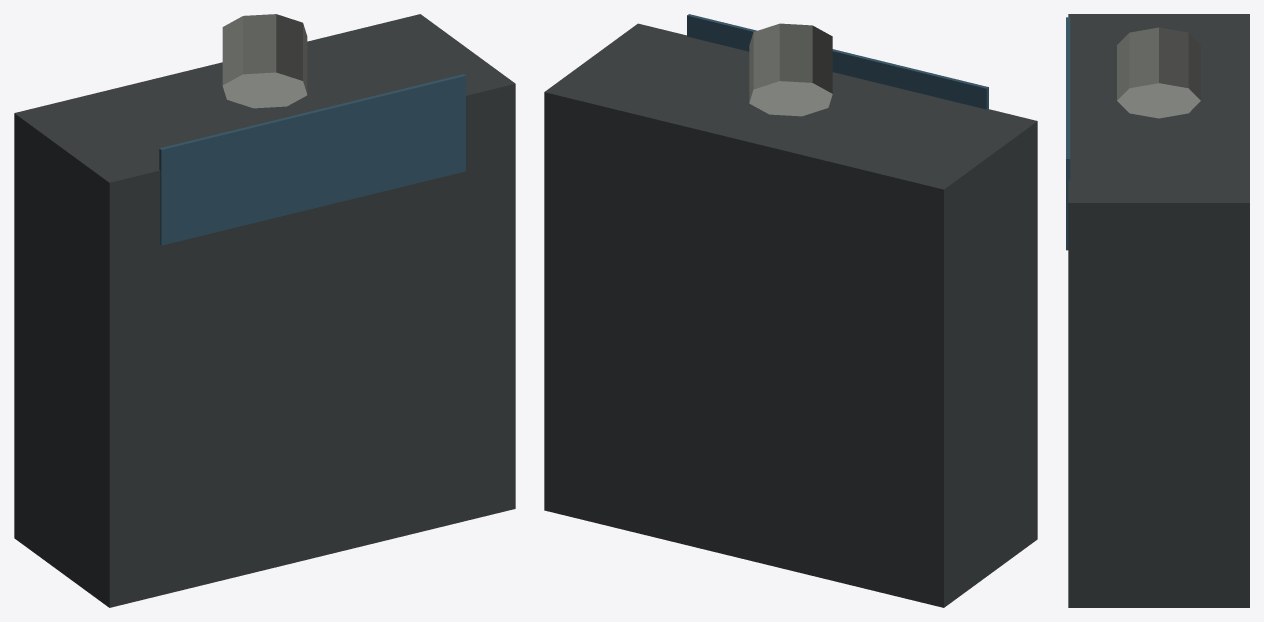
File: ticket.glb
3 views of the same model, side by side, from view 1: azimuth 30°, elevation 25°; view 2: azimuth 150°, elevation 25°; view 3: azimuth 270°, elevation 25° (orthographic). The views are drawn at different scales.
Parts seen in each view (by area): view 1: body; view 2: body; view 3: body.
Part boxes in pixels (x1=…): body: x1=14, y1=14, x2=515, y2=607; body: x1=544, y1=14, x2=1037, y2=607; body: x1=1066, y1=14, x2=1249, y2=607.
Size of the model in its own units: 1.92 by 2.22 by 0.789.
1 material, 1 textured.
